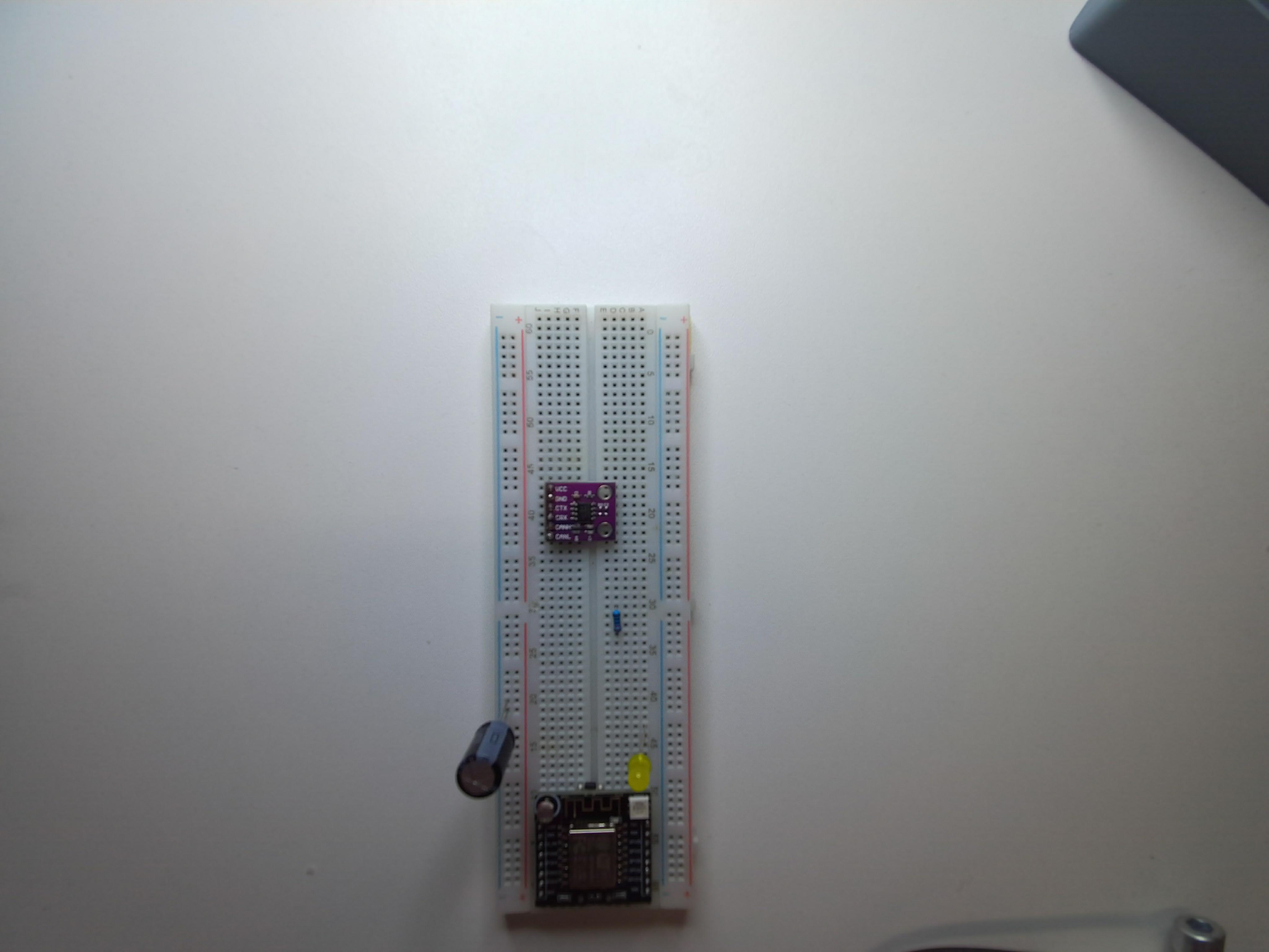base: (482, 300, 702, 922)
capacitor: (455, 713, 521, 804)
esp: (533, 787, 657, 911)
purple-board: (542, 478, 618, 548)
resistor-small: (610, 606, 623, 638)
yellow-led: (623, 749, 654, 789)
